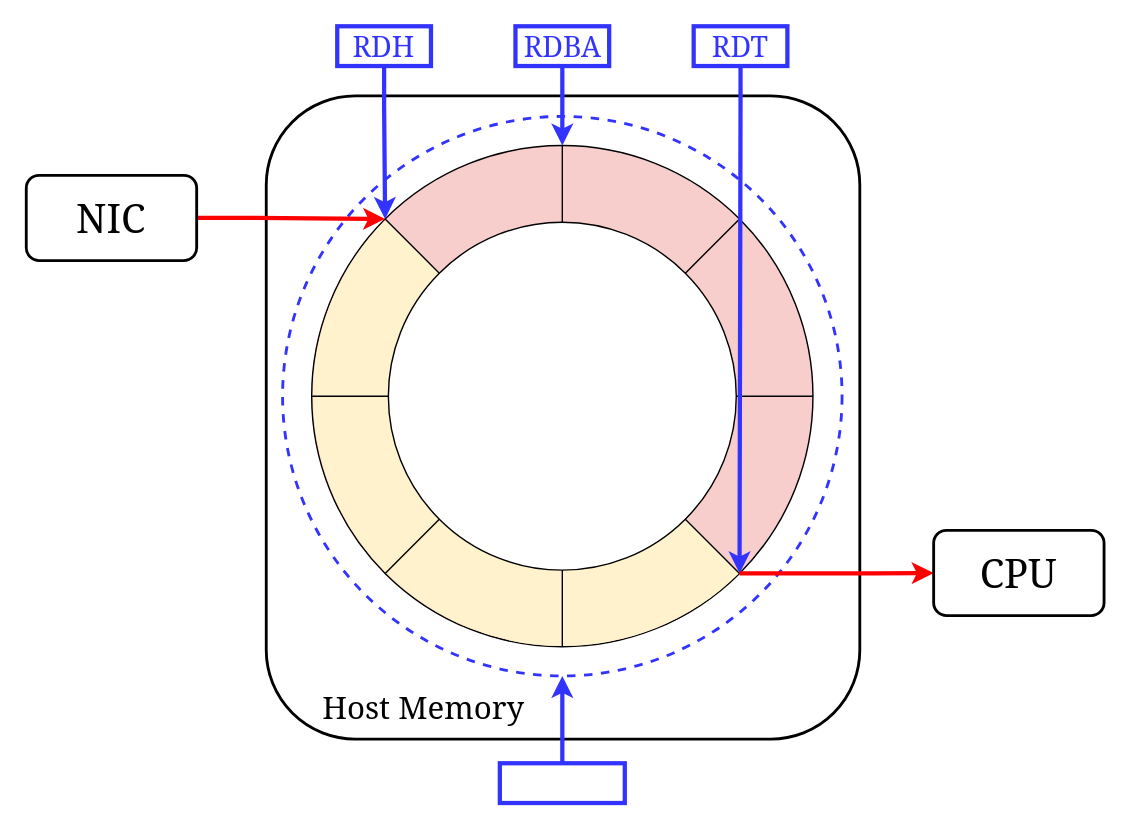
Some shapes in this 1129 by 829 pixel diagram are drawn without their labels. Here are the shapes that lost their labels. From the top down, the centre of each, then its label:
At [561,395]: "Receive Descriptor Ring Buffer".
At [561,782]: "RDLEN".
